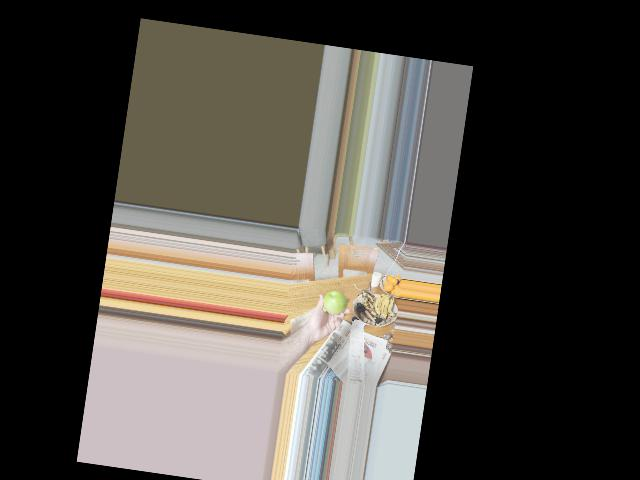apple: (321, 288, 348, 315)
